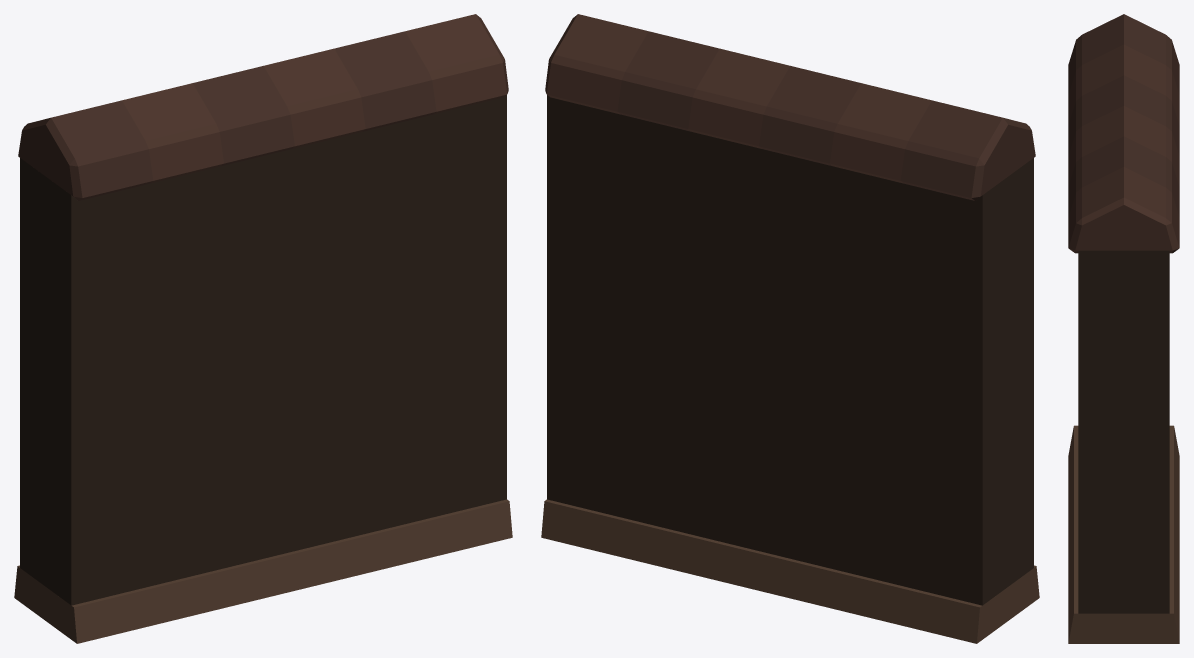
The model's file is Wall_3_Dark_Brown.fbx.
3 views of the same model, side by side, from view 1: azimuth 30°, elevation 25°; view 2: azimuth 150°, elevation 25°; view 3: azimuth 270°, elevation 25° (orthographic). The views are drawn at different scales.
Visible parts, largest first — view 1: Wall_3_Dark_Brown; view 2: Wall_3_Dark_Brown; view 3: Wall_3_Dark_Brown.
Part boxes in pixels (box(x1,y1,x2,y2)): Wall_3_Dark_Brown: box(14, 14, 512, 643); Wall_3_Dark_Brown: box(541, 14, 1039, 643); Wall_3_Dark_Brown: box(1068, 14, 1179, 643).
Size of the model in its own units: 400 by 441 by 100.
